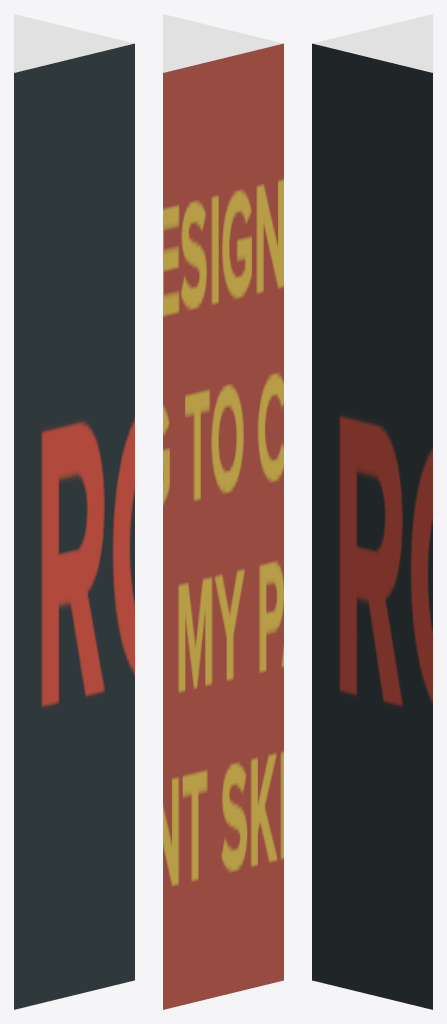
Rendered from tri3.gltf.
3 views of the same model, side by side, from view 1: azimuth 30°, elevation 25°; view 2: azimuth 150°, elevation 25°; view 3: azimuth 330°, elevation 25° (orthographic).
Parts seen in each view (by area): view 1: tri3; view 2: tri3; view 3: tri3.
Part boxes in pixels (x1,y1,x2,y2): tri3: [14, 14, 134, 1009]; tri3: [163, 14, 283, 1009]; tri3: [312, 14, 432, 1009].
Size of the model in its own units: 1.73 by 12.82 by 1.5.
Materials: 1 (1 with a texture image).
